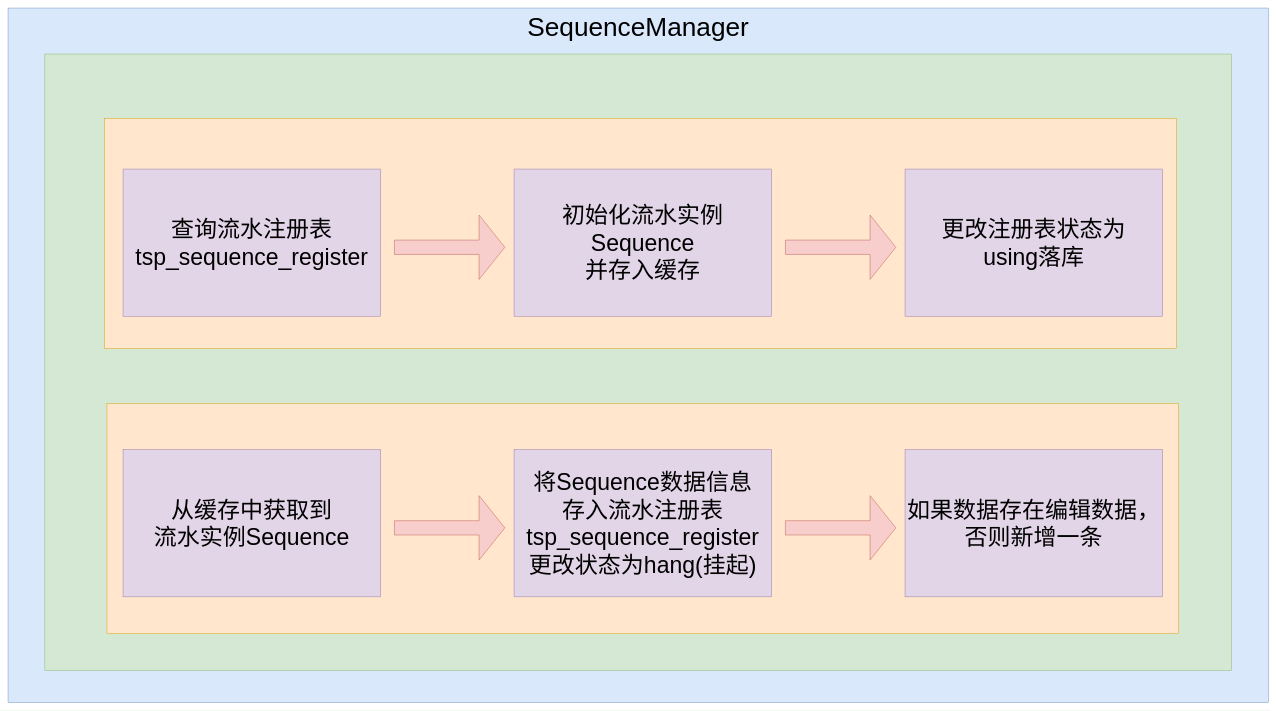
Some shapes in this 1277 by 711 pixel diagram are drawn without their labels. Each missing label, with the box of its shape:
优雅停机: (106, 403, 1179, 634)
优雅启动: (104, 118, 1176, 348)
